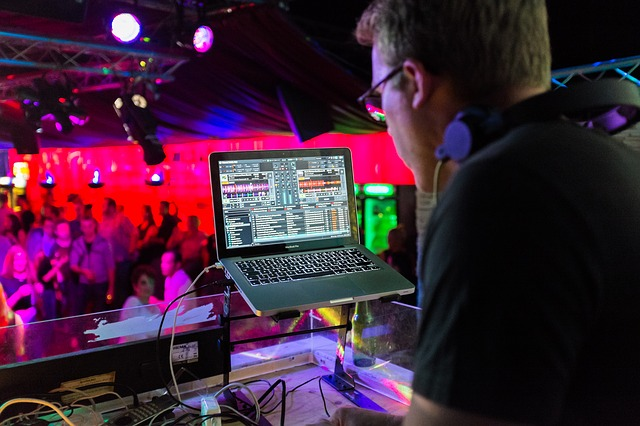headphones: (445, 82, 640, 165)
